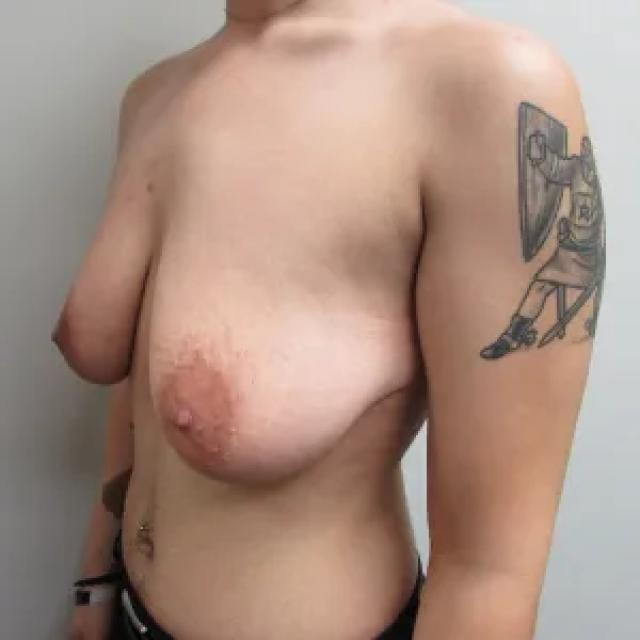Seno ileso: (146, 228, 393, 498), (43, 183, 142, 414)
